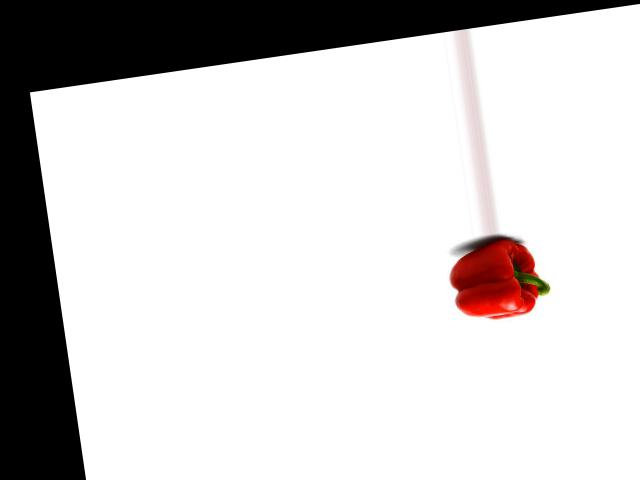bell_pepper: (437, 234, 558, 325)
